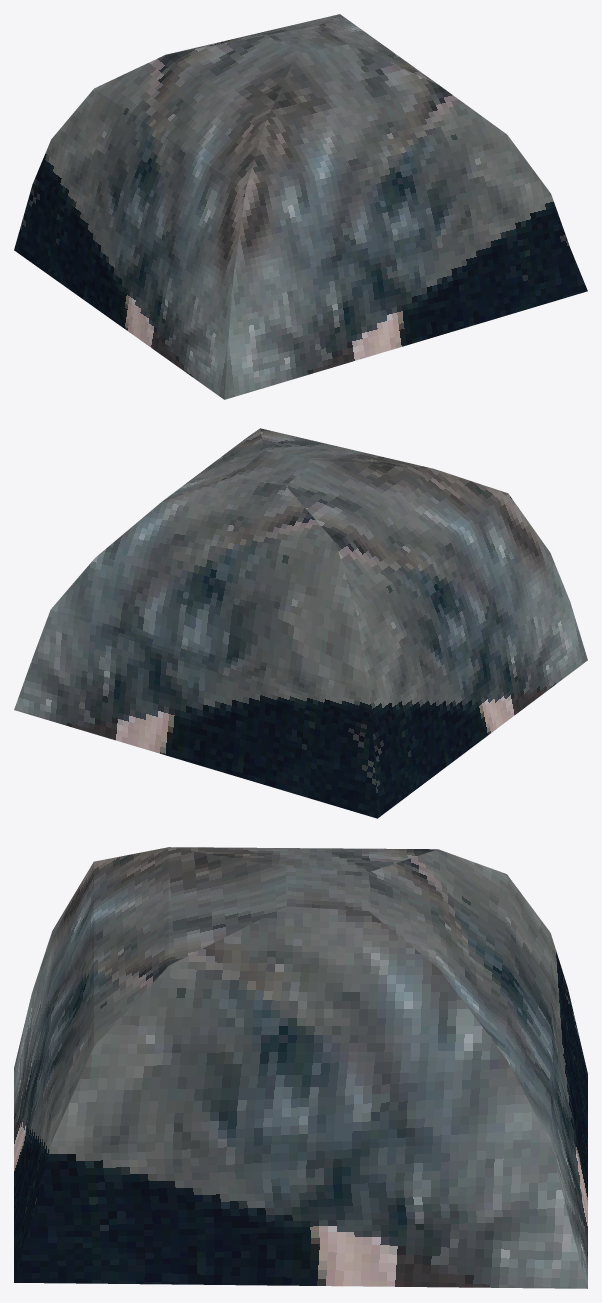
The picture shows the model from 3 angles, top to bottom: view 1: azimuth 30°, elevation 25°; view 2: azimuth 150°, elevation 25°; view 3: azimuth 270°, elevation 25°; orthographic projection. The views are drawn at different scales.
Visible parts, largest first — view 1: SPLICE_3; view 2: SPLICE_3; view 3: SPLICE_3.
Part boxes in pixels (x1,y1,x2,y2): SPLICE_3: (14, 14, 587, 399); SPLICE_3: (14, 428, 587, 818); SPLICE_3: (14, 847, 587, 1288).
Size of the model in its own units: 1.07 by 0.6627 by 1.07.
Materials: 1 (1 with a texture image).
